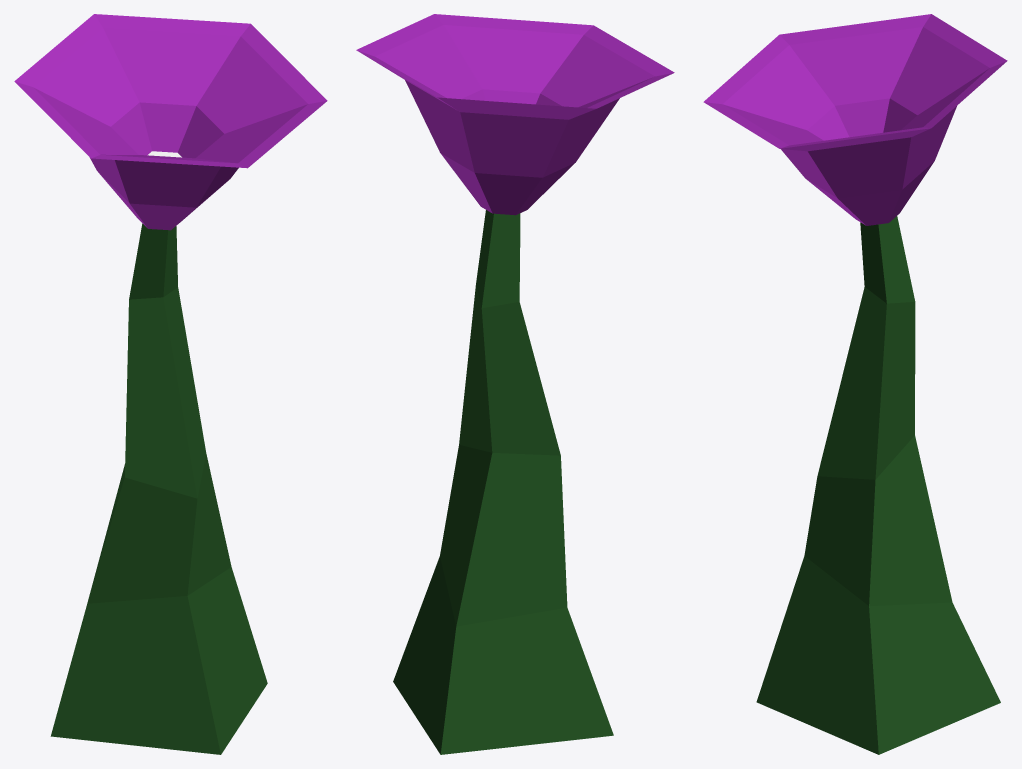
Rendered from fiore3.glb.
3 views of the same model, side by side, from view 1: azimuth 30°, elevation 25°; view 2: azimuth 150°, elevation 25°; view 3: azimuth 270°, elevation 25° (orthographic). The views are drawn at different scales.
Parts seen in each view (by area): view 1: Cylinder.002; view 2: Cylinder.002; view 3: Cylinder.002.
Part boxes in pixels (box(x1,y1,x2,y2)): Cylinder.002: box(14, 14, 327, 754); Cylinder.002: box(356, 14, 674, 754); Cylinder.002: box(703, 14, 1007, 754).
Bounding box in the file's own units: 0.1625 × 0.4256 × 0.1829.
